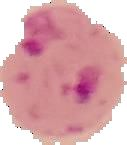parasitized: (8, 19, 122, 145)
